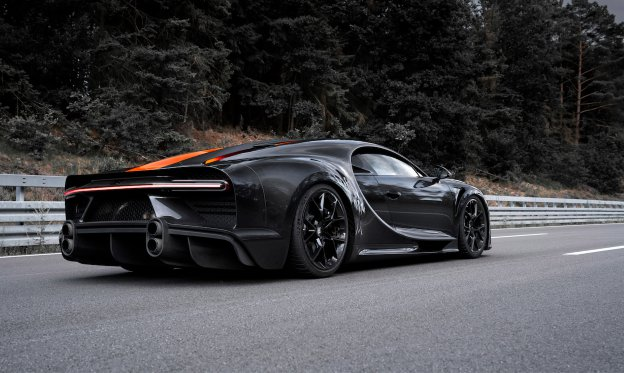car: (54, 137, 496, 265)
